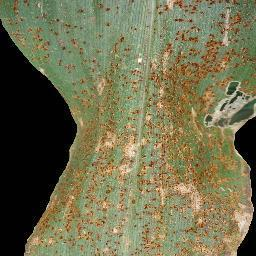Corn_Common_Rust: (71, 0, 256, 255), (0, 0, 71, 110), (23, 151, 71, 256)
